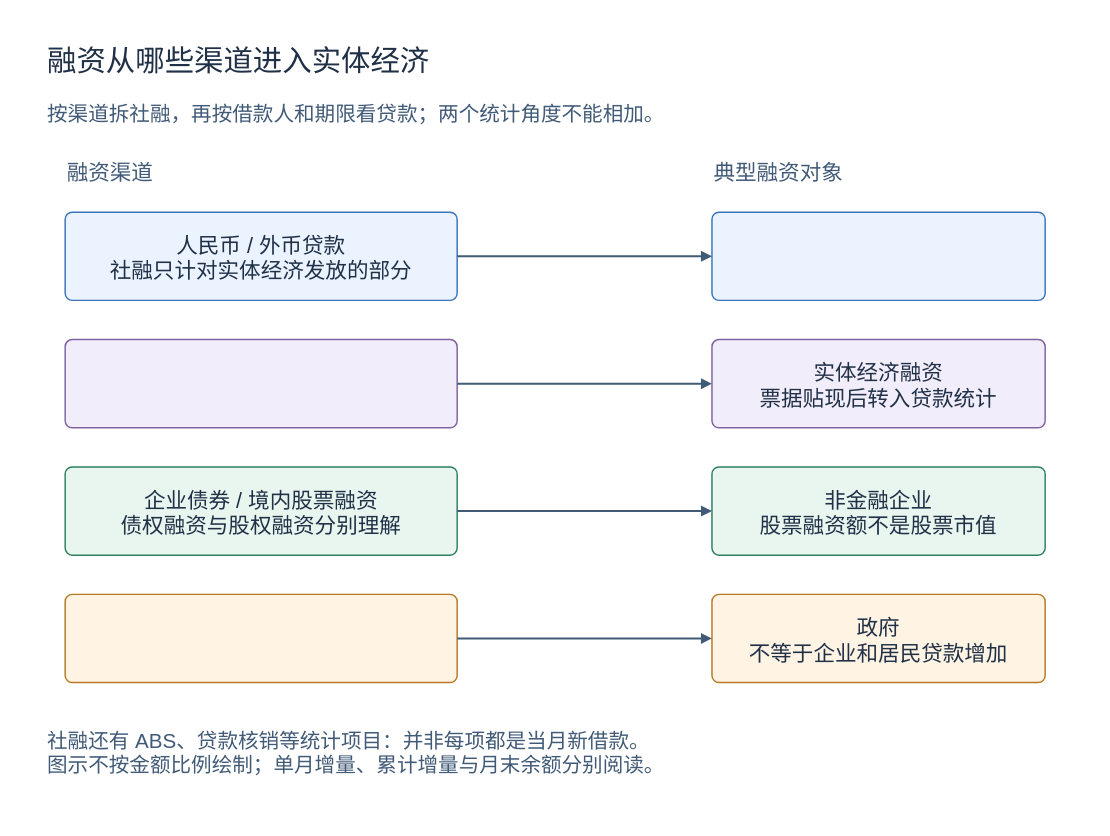
The diagram is 1110 pixels wide and 836 high, and some of its shapes have lost their labels. The centre of each missing label's shape, as x and y in pixels:
"住户、非金融企业等 再区分短期 / 中长期" belongs at (x=878, y=256).
"委托贷款 / 信托贷款 未贴现银行承兑汇票" belongs at (x=260, y=383).
"政府债券 国债、地方一般债与专项债" belongs at (x=260, y=638).
